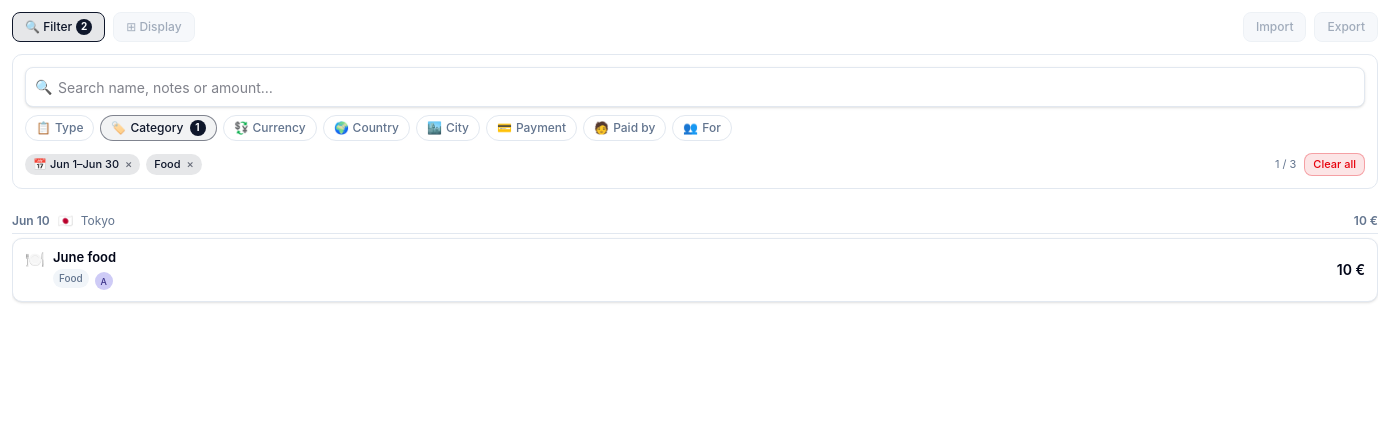
it: TransactionsTab — drill-down from the dashboard › lets the user clear the date range on its own
Click the button named "Remove date range filter".
click(129, 164)  # box [125,156,132,172]
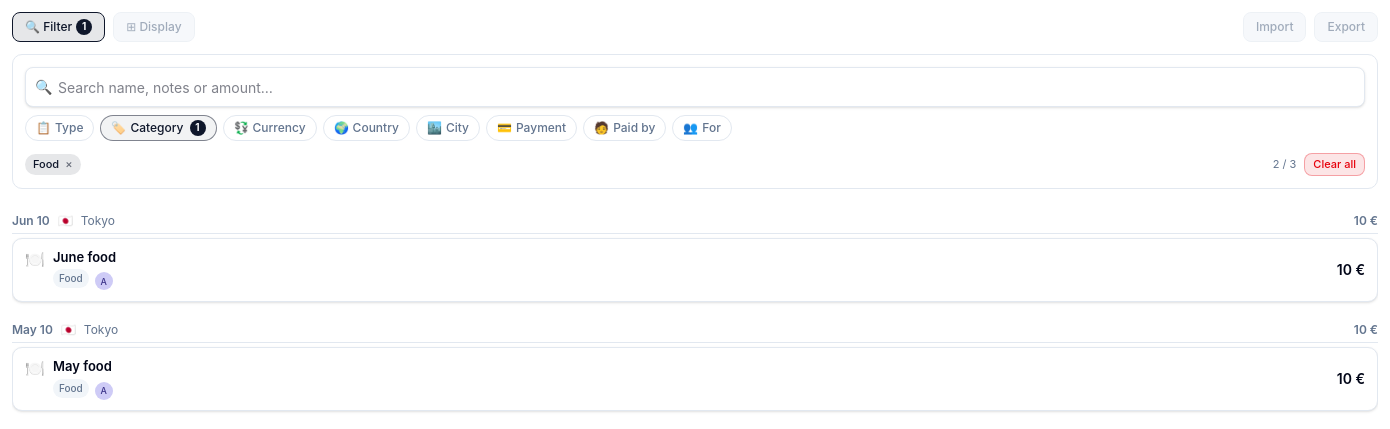
Result: the text "May food" is shown at [53,358,112,374]
